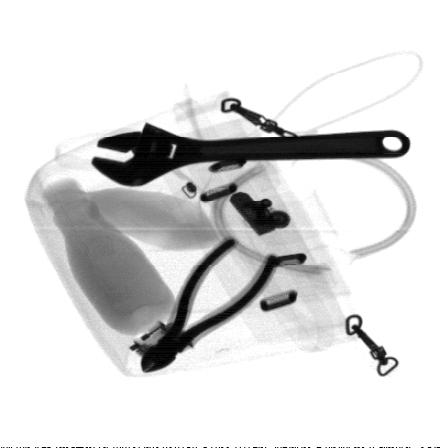Pliers: (140, 236, 280, 374)
Wrench: (92, 120, 412, 188)
